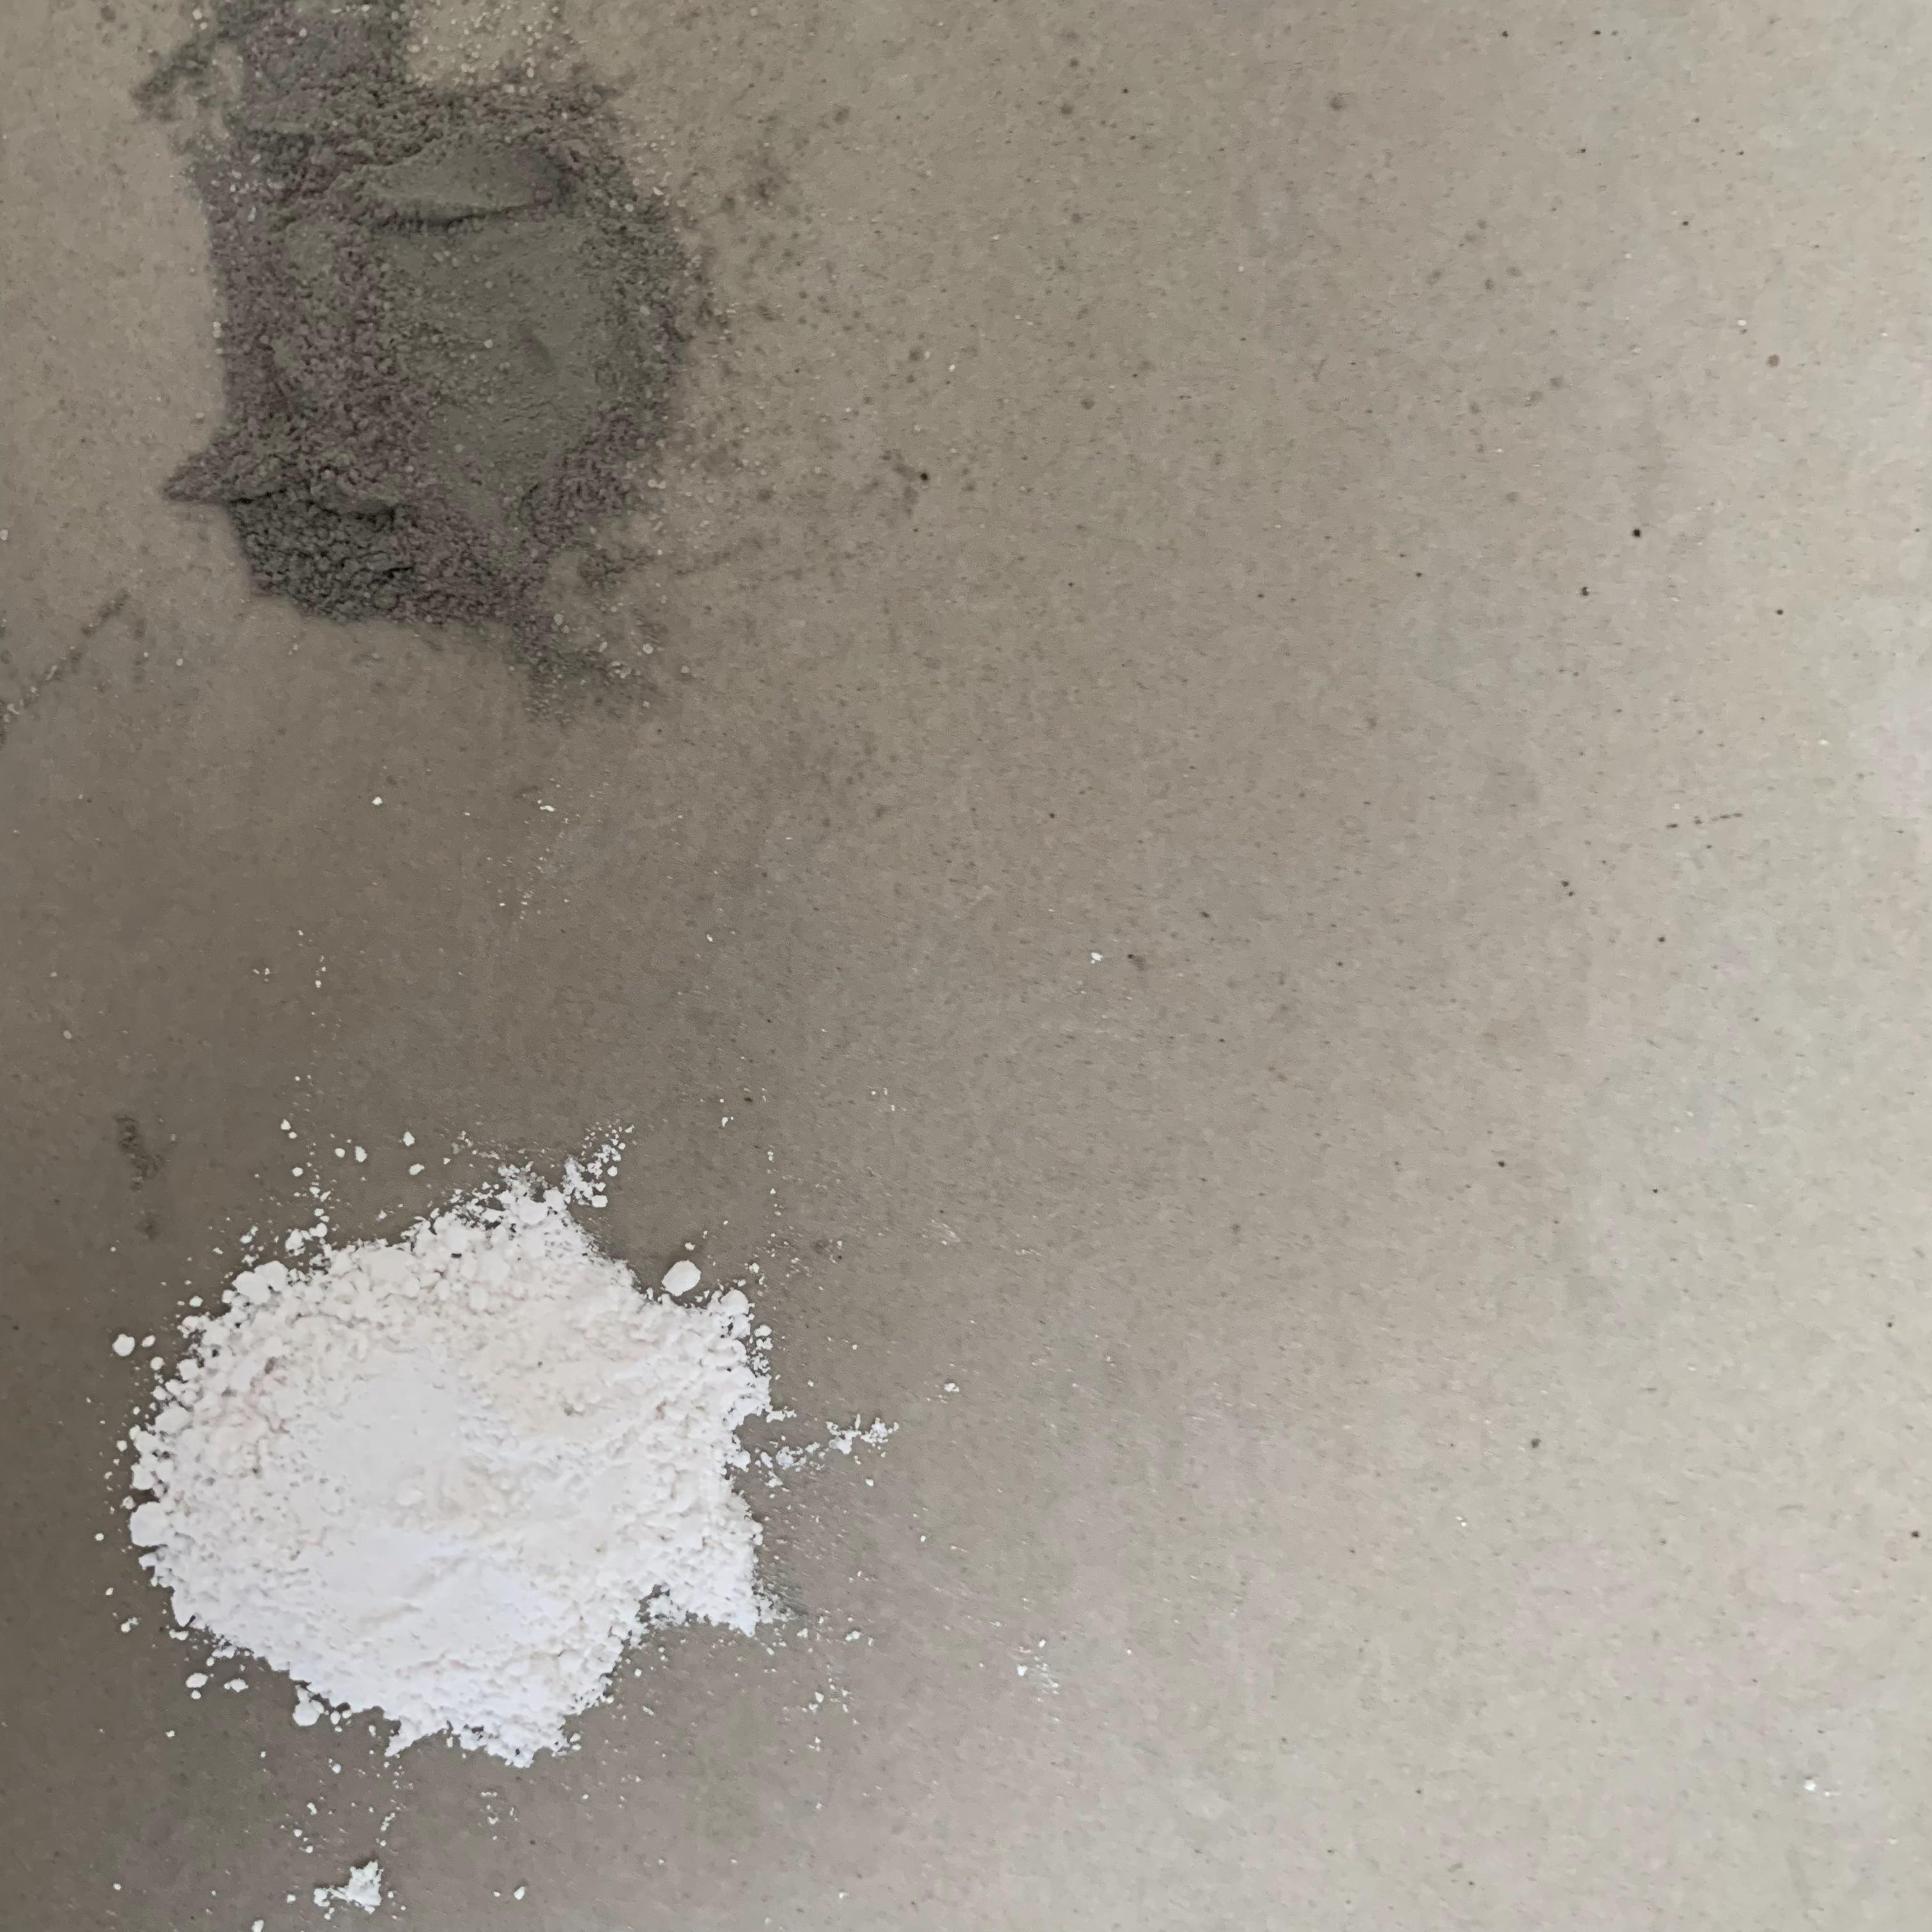ash pile: (126, 4, 936, 718), (131, 1123, 902, 1759)
